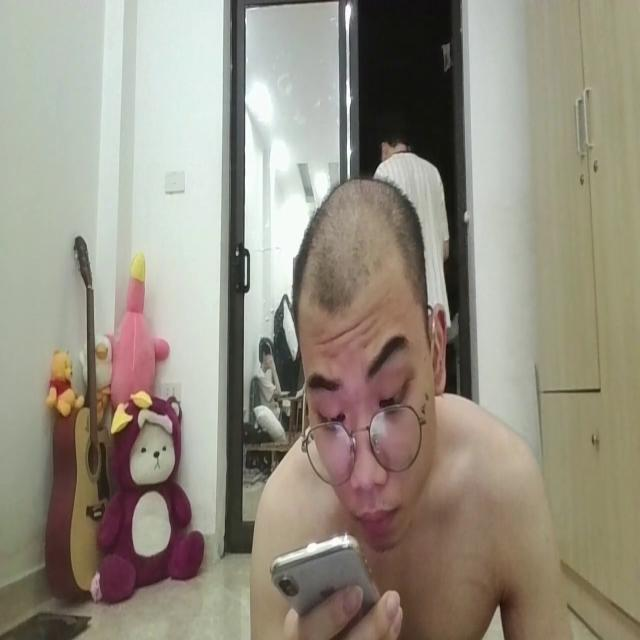extra_person: (368, 104, 458, 334)
student: (244, 175, 574, 640)
